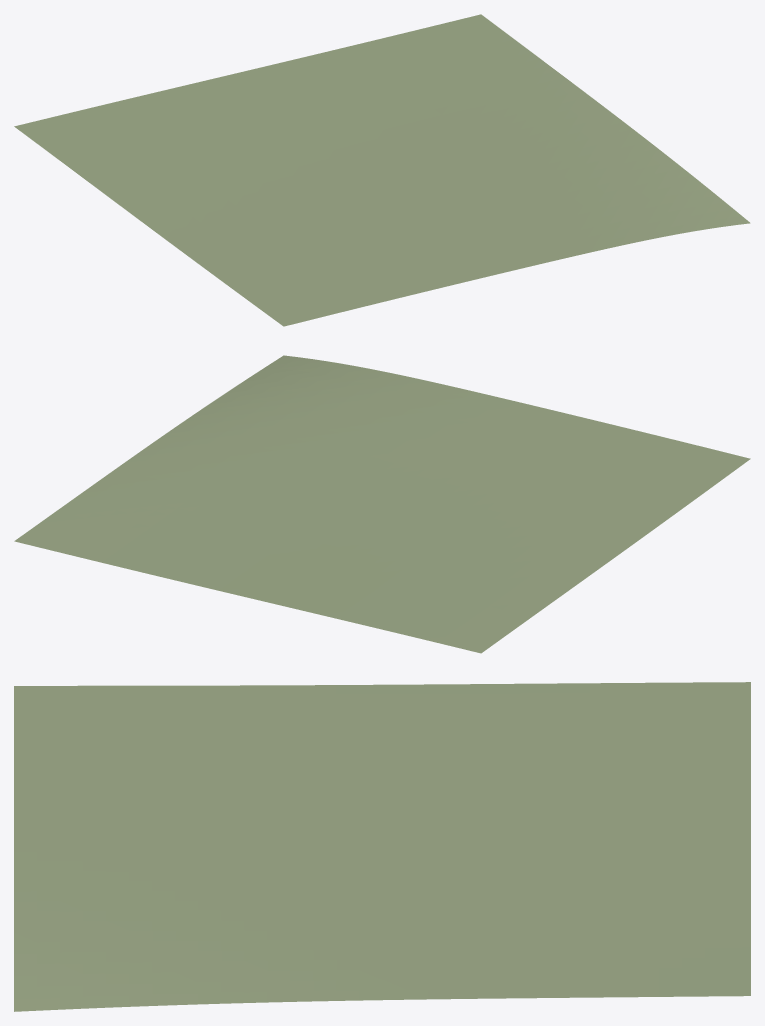
Rendered from desert-11-30.glb.
3 renders of one model, top to bottom at view 1: azimuth 30°, elevation 25°; view 2: azimuth 150°, elevation 25°; view 3: azimuth 270°, elevation 25°, orthographic. The views are drawn at different scales.
Parts seen in each view (by area): view 1: desert-11-30; view 2: desert-11-30; view 3: desert-11-30.
Boxes of the visible parts, box(x1,y1,x2,y2) form: desert-11-30: box(14, 14, 750, 326); desert-11-30: box(14, 355, 750, 653); desert-11-30: box(14, 682, 750, 1011).
Size of the model in its own units: 512 by 14 by 512.
